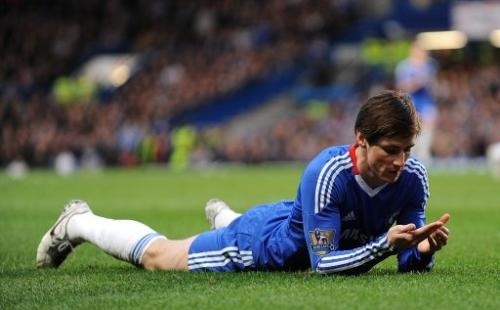falling: (33, 89, 451, 277)
